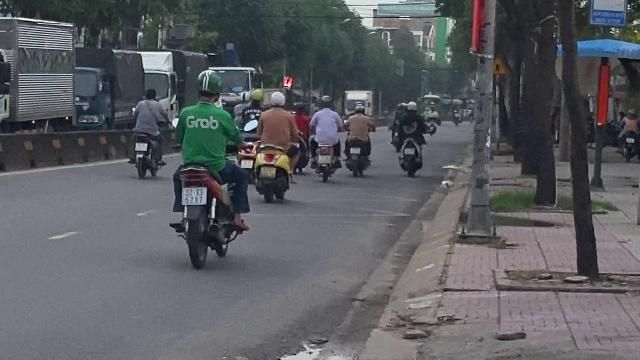helmet: (194, 70, 222, 102), (268, 91, 284, 107)
licenseplate: (182, 187, 206, 204), (260, 166, 276, 178), (135, 142, 147, 152)
motorcyclist: (165, 70, 252, 268), (252, 90, 300, 202), (128, 89, 168, 179)
nohelmet: (144, 88, 156, 100)
